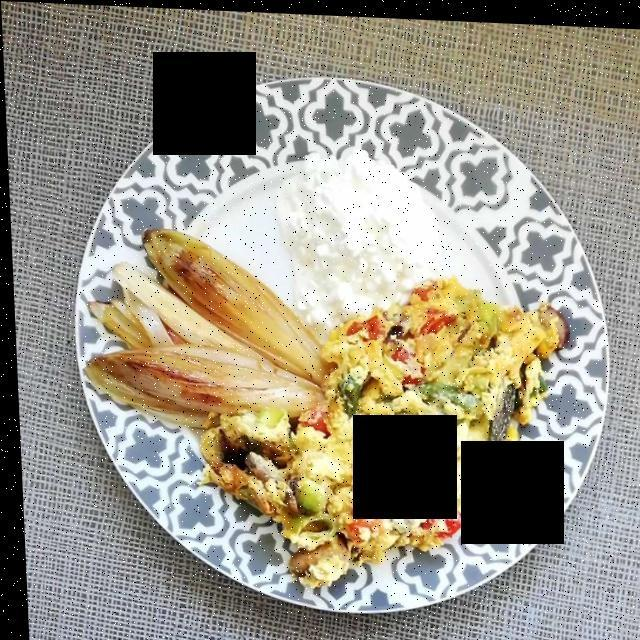cheese: (272, 150, 438, 307)
mixed-vegetables: (170, 274, 550, 565)
omelette: (202, 276, 559, 576)
